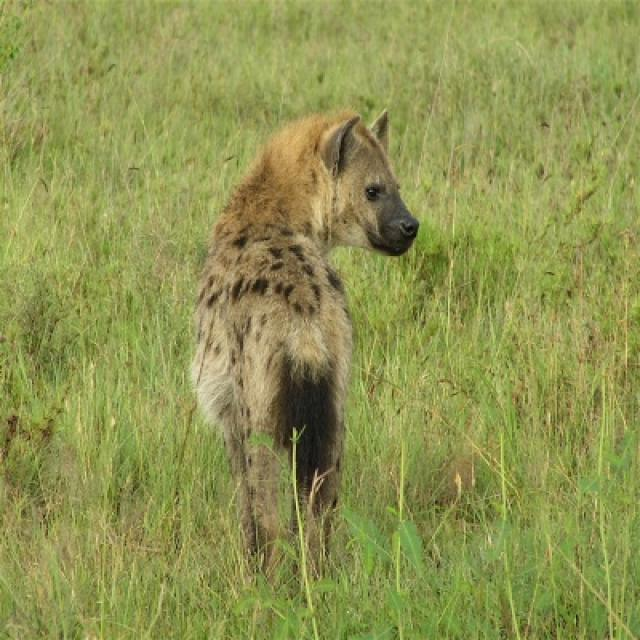hyena: (195, 110, 418, 549)
